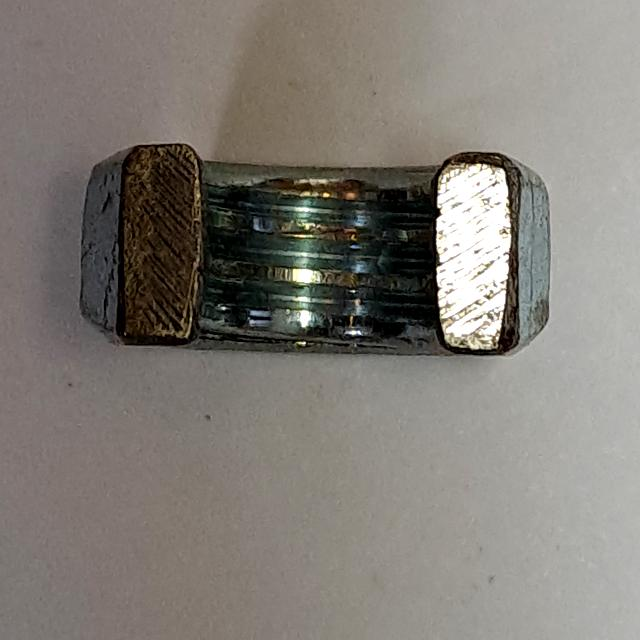Side-Fracture: (59, 132, 575, 380)
